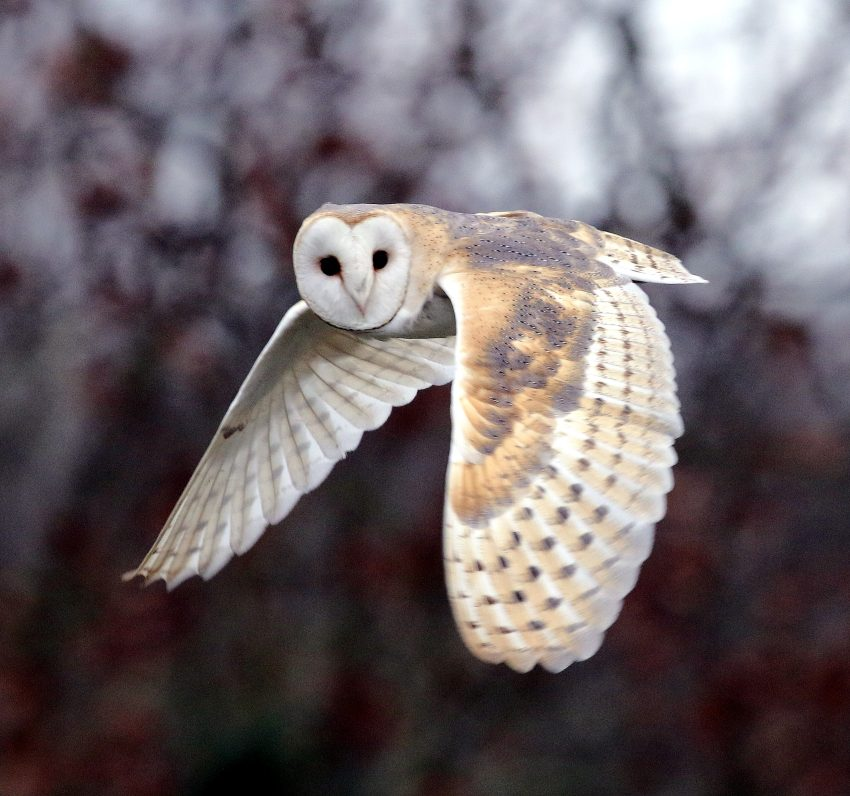owl: (117, 188, 727, 669)
